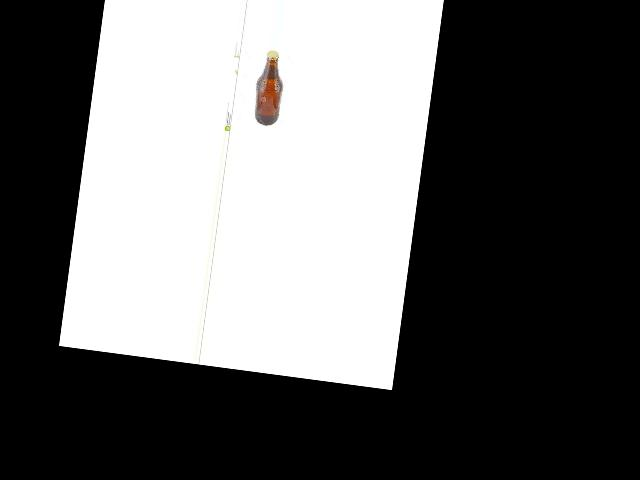beer: (251, 49, 287, 126)
